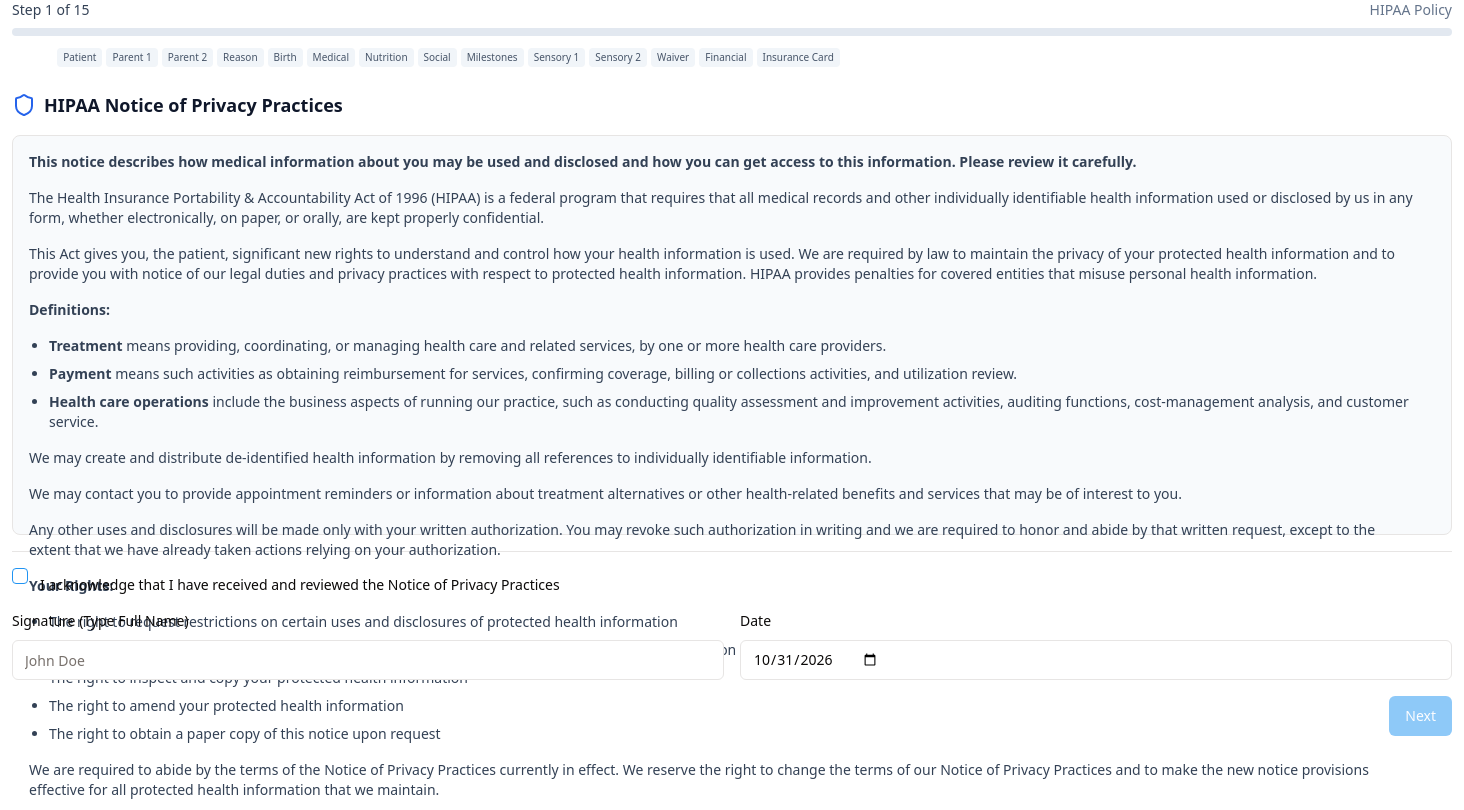
Test case: PatientIntakeForm › navigates back with Previous button
Click the checkbox at point(20, 576), box [12, 568, 28, 584]
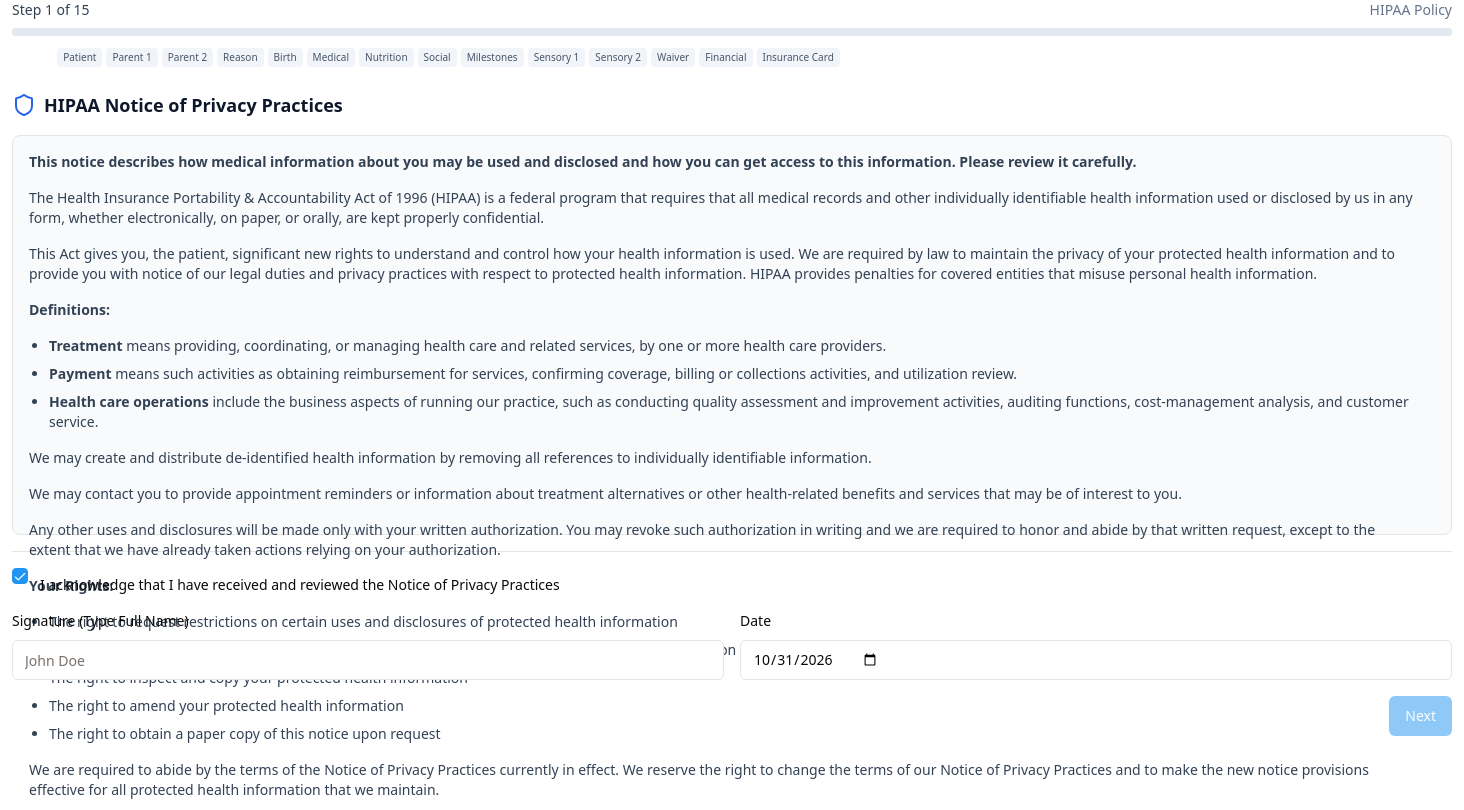
Type "Jane Smith" into the field with placeholder "John Doe" at point(368, 660), box [12, 640, 724, 680]
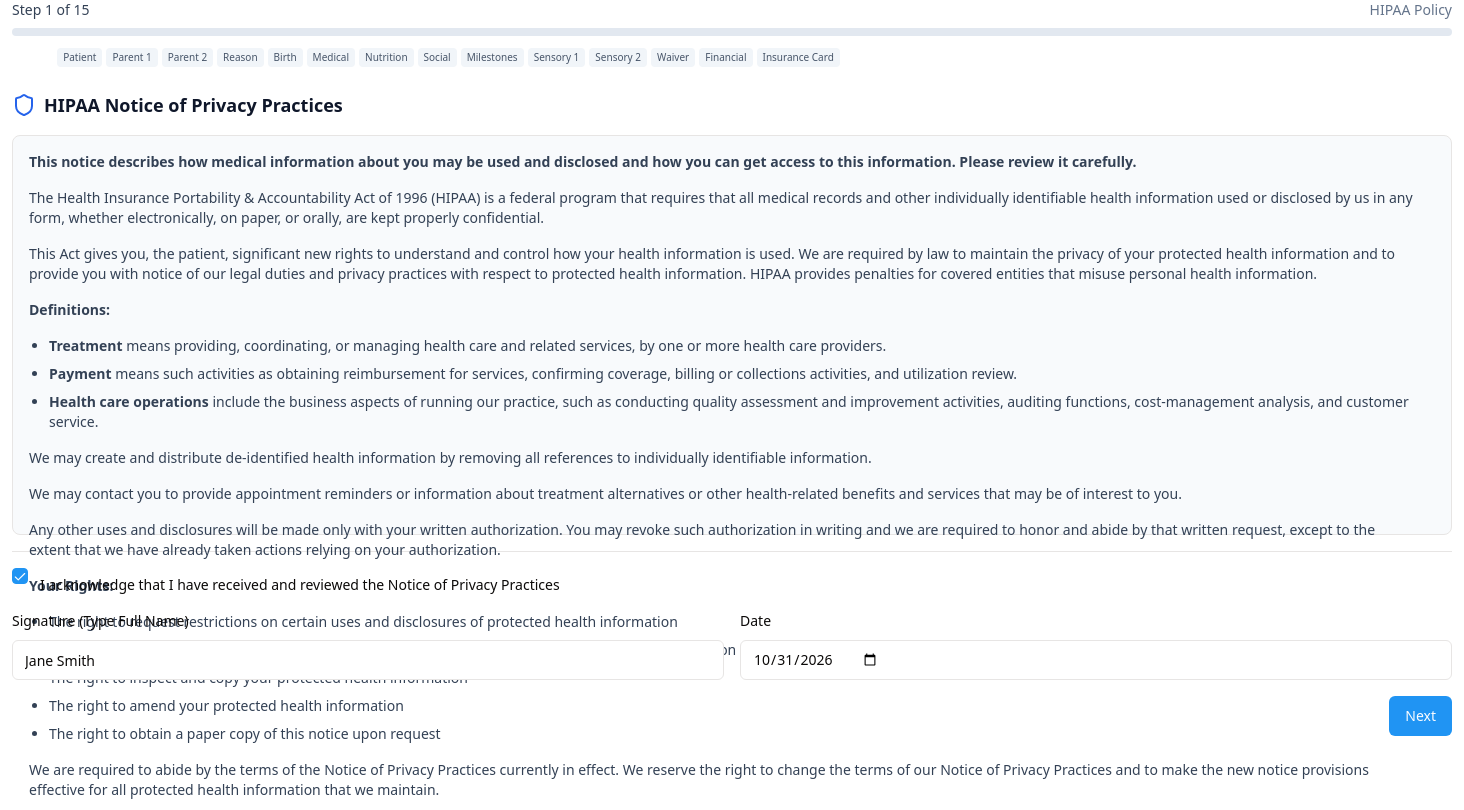
Click the button "Next" at point(1421, 716), box [1389, 696, 1452, 736]
(page scrolled)
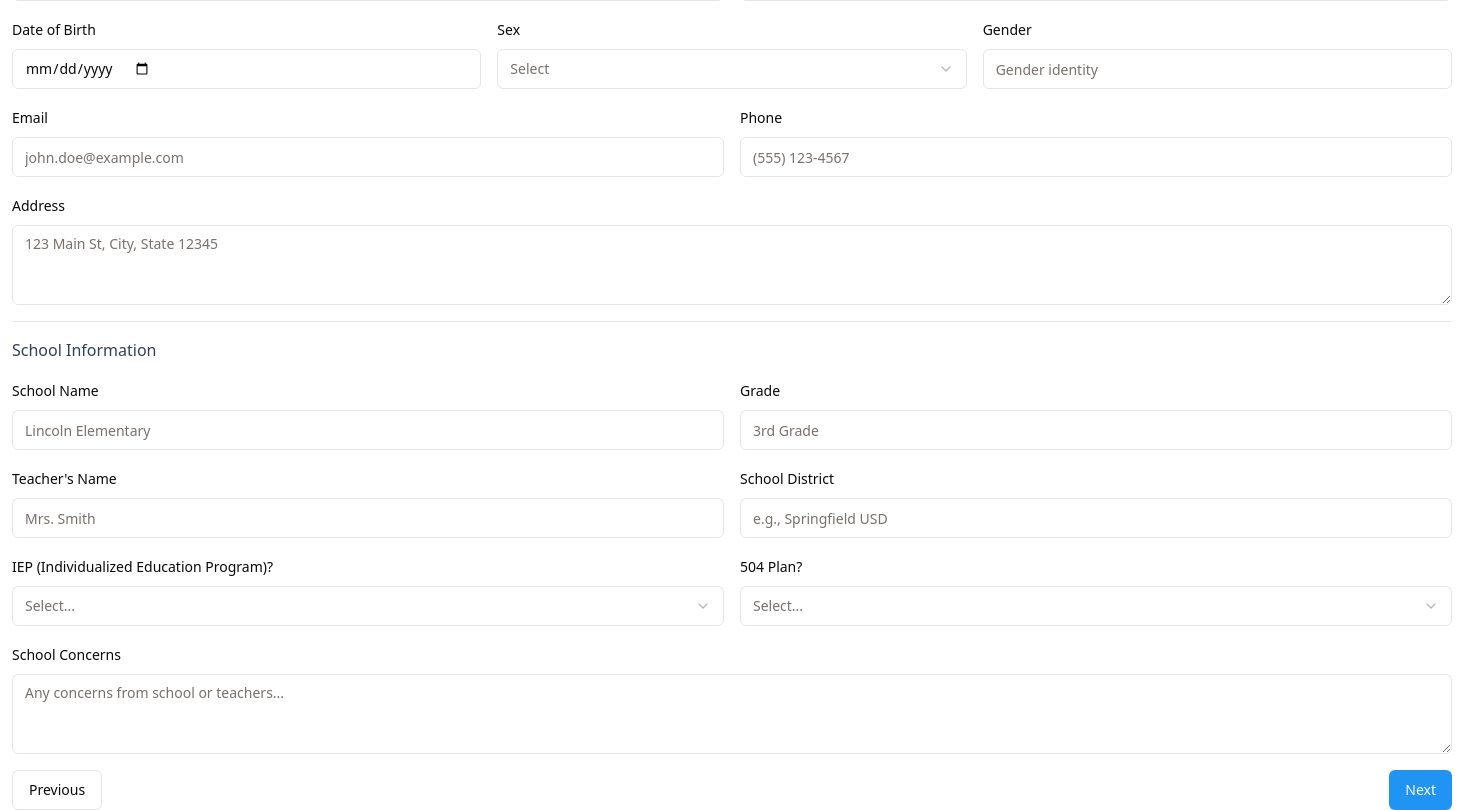
Click the button "Previous" at point(57, 790), box [12, 770, 102, 809]
(page scrolled)
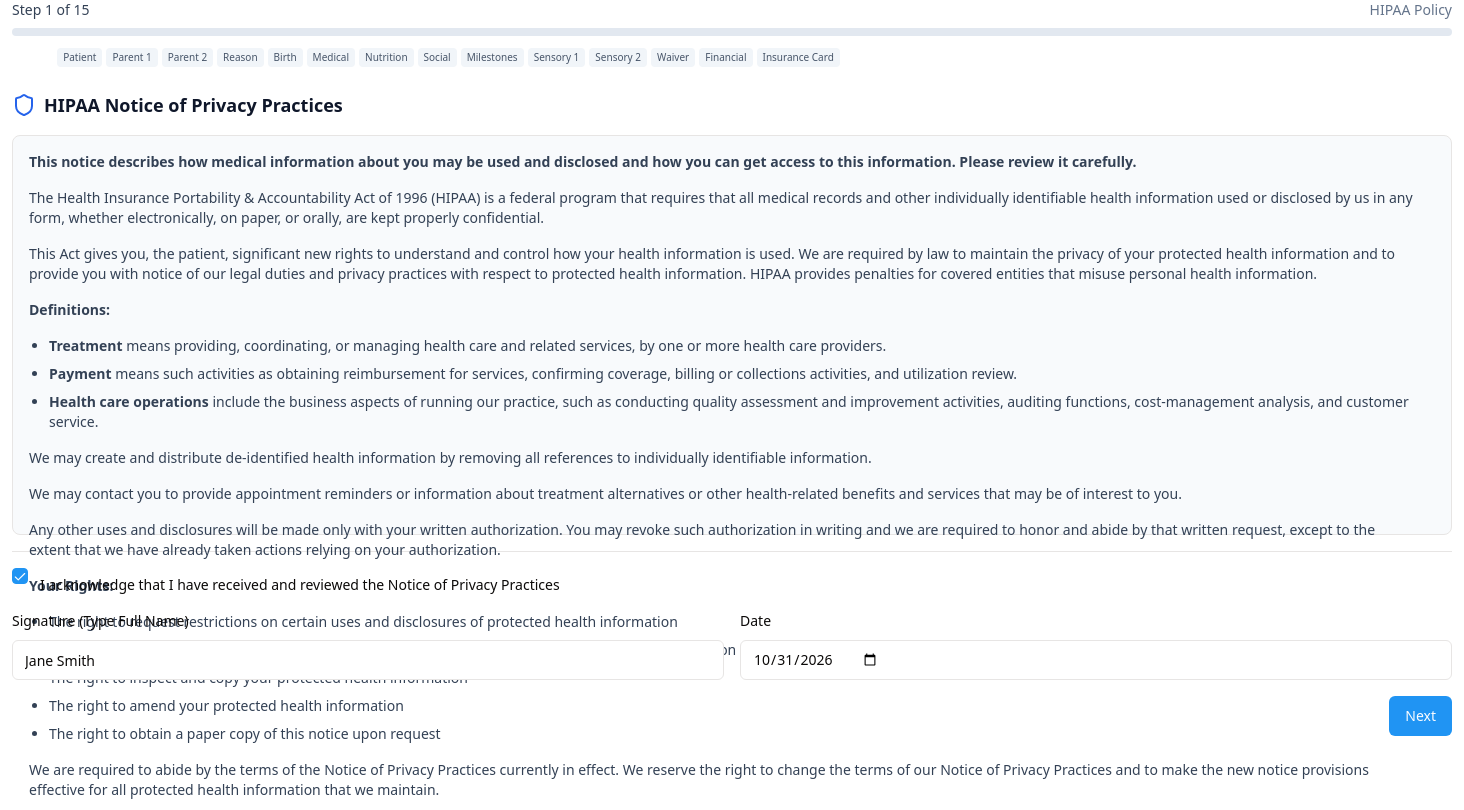
Check: the heading "HIPAA Notice of Privacy Practices" is shown, box [44, 91, 343, 119]
